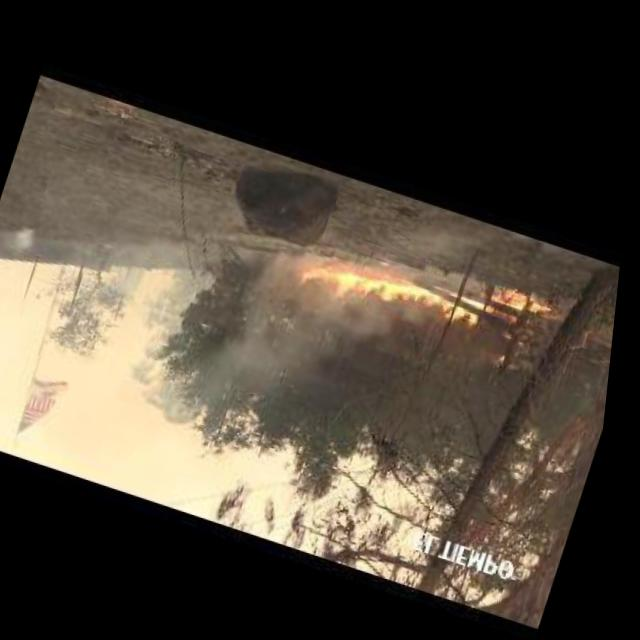Fire: (209, 258, 389, 431), (295, 239, 501, 338), (498, 271, 557, 308), (9, 218, 52, 262), (505, 304, 534, 337), (502, 341, 510, 352)
